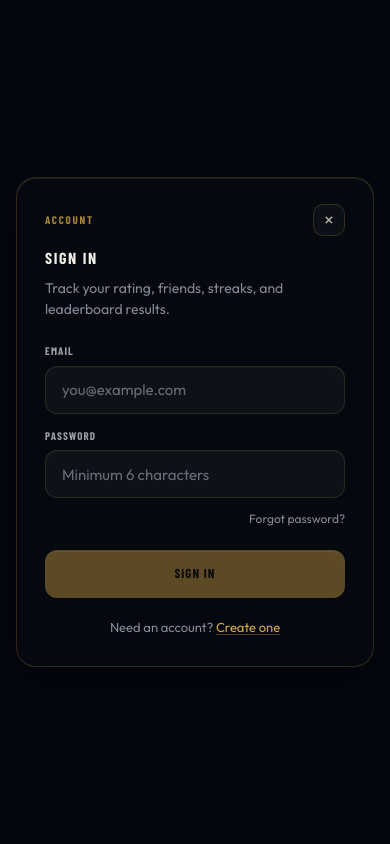
AuthModal — password reset states › falls back to the neutral message when none is returned
In the field with placeholder "you@example.com": {"x": 195, "y": 390} x1=45 y1=366 x2=345 y2=414, type "who@example.com"
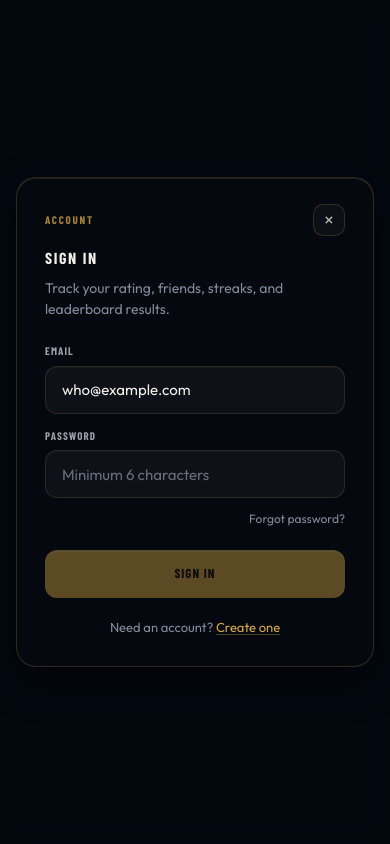
Click the button "Forgot password?": {"x": 297, "y": 519} x1=249 y1=508 x2=345 y2=530
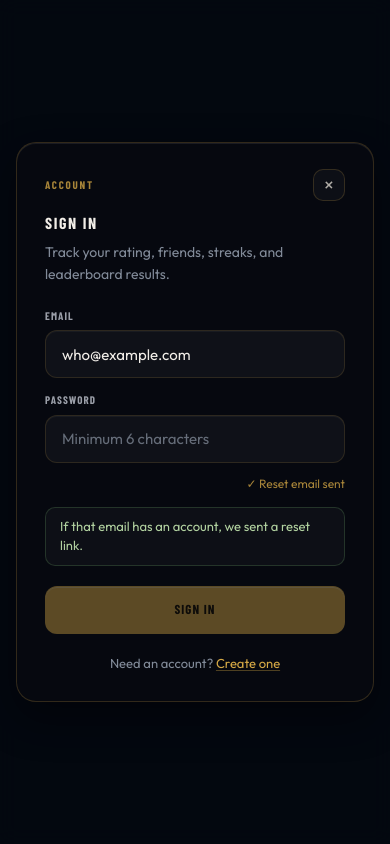
Result: the text "If that email has an account, we sent a reset link." is shown at x1=45 y1=506 x2=345 y2=566
